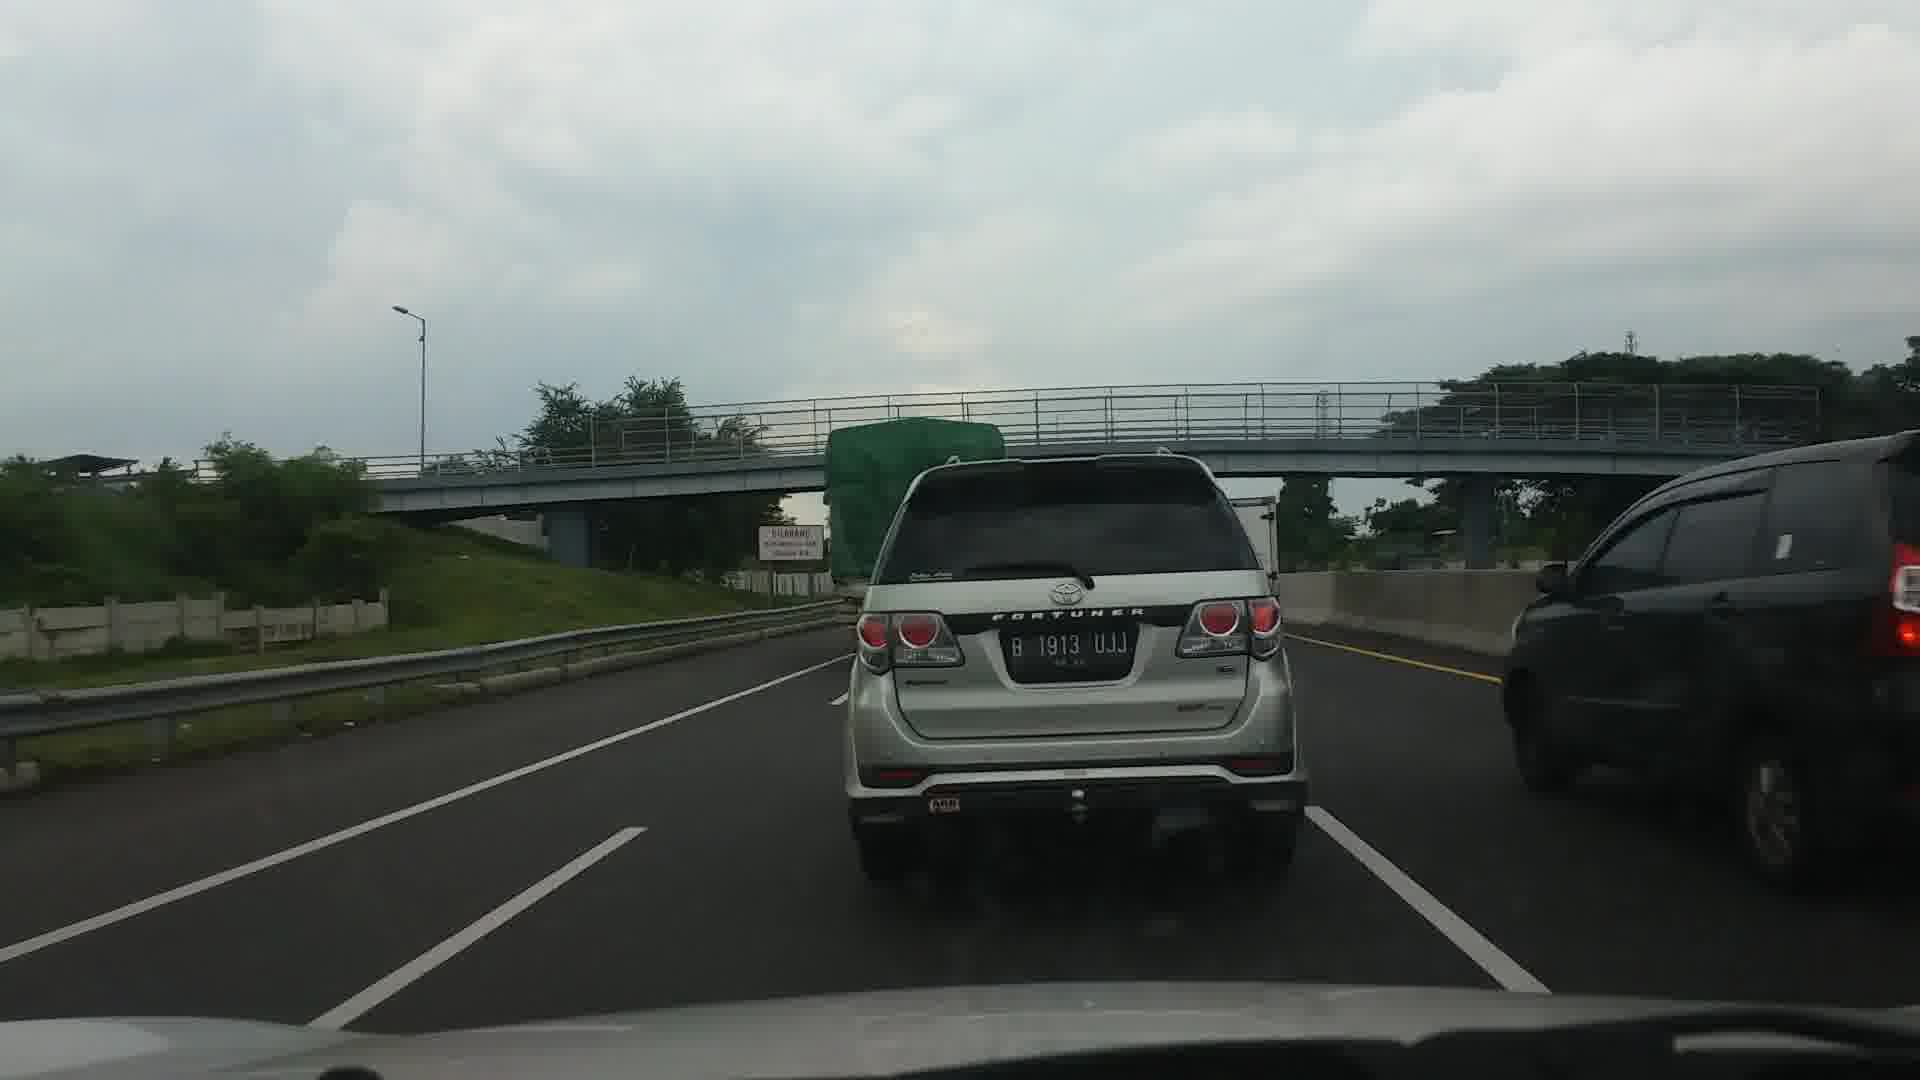plate_positive: (1007, 632, 1131, 667)
